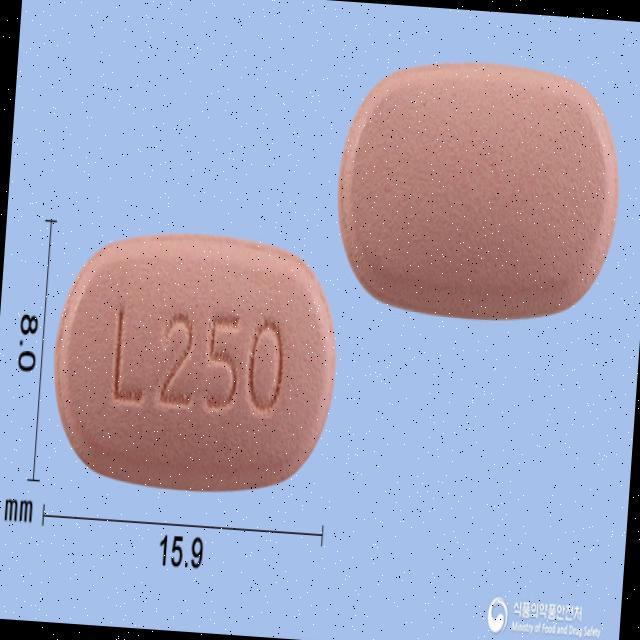Levoby - 500mg: (46, 221, 344, 498)
